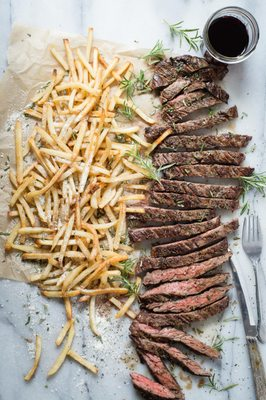burger: (228, 214, 265, 397), (242, 214, 265, 334)
pizza: (202, 5, 261, 66)
